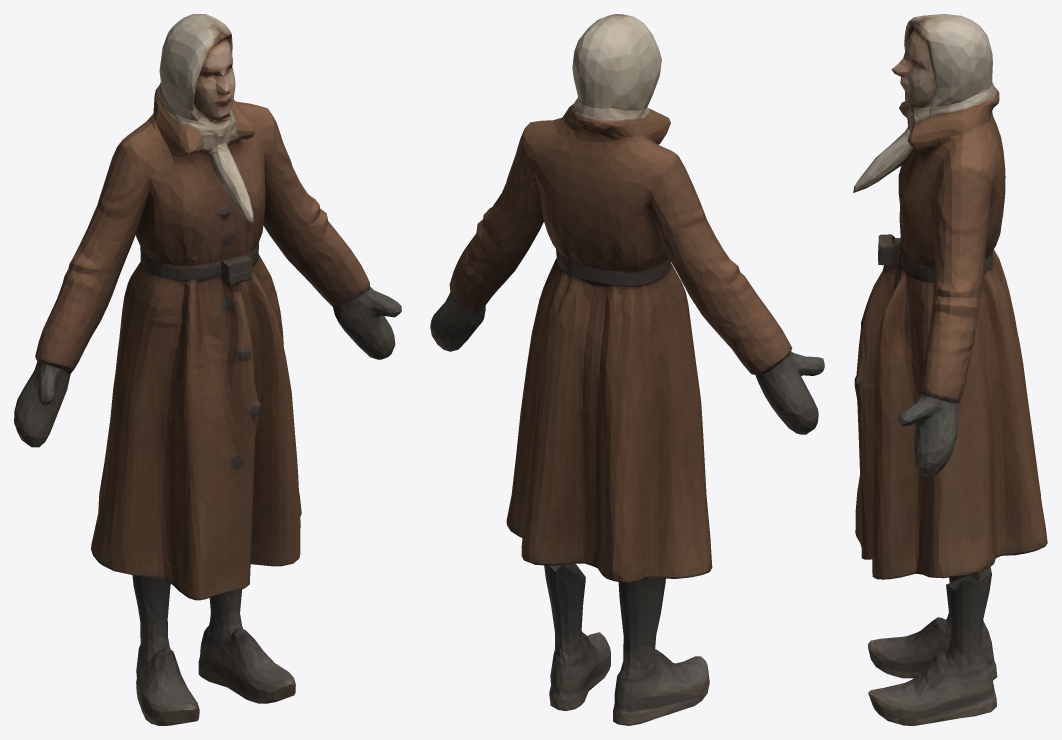
The model's file is vrouw_sam.glb.
3 views of the same model, side by side, from view 1: azimuth 30°, elevation 25°; view 2: azimuth 150°, elevation 25°; view 3: azimuth 270°, elevation 25° (orthographic).
Parts seen in each view (by area): view 1: geometry_0; view 2: geometry_0; view 3: geometry_0.
Boxes of the visible parts, <box> form: geometry_0: <box>14,14,401,725</box>; geometry_0: <box>430,14,824,725</box>; geometry_0: <box>853,14,1047,725</box>.
Bounding box in the file's own units: 0.5863 × 0.9998 × 0.2599.
Materials: 1 (1 with a texture image).
